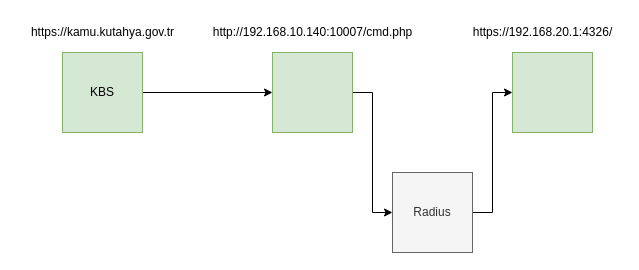
The diagram is 639 pixels wide and 270 high, and some of its shapes have lost their labels. Each missing label, with the centre of its shape:
"Forti" goes at [552,92].
"Ldap" goes at [312,92].
